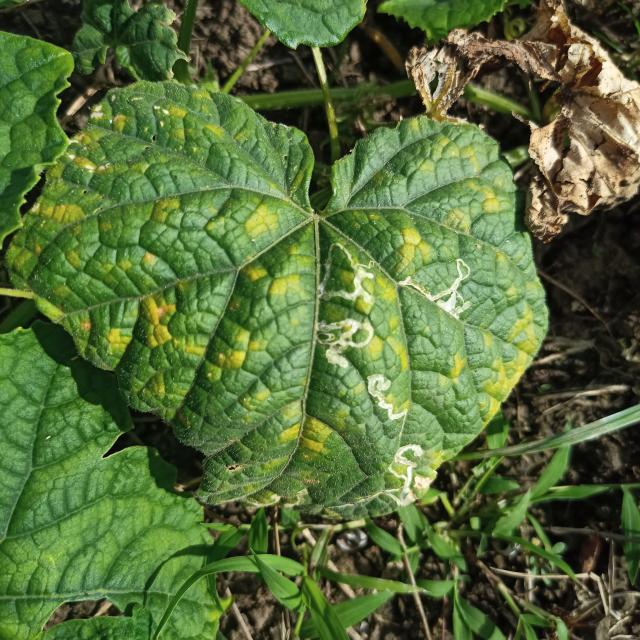disease_cucumber: (42, 97, 530, 506)
